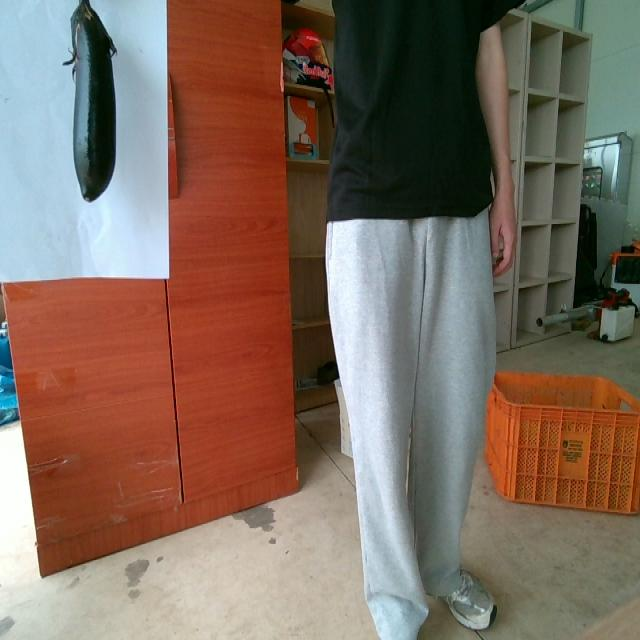Egg plant: (63, 0, 116, 200)
